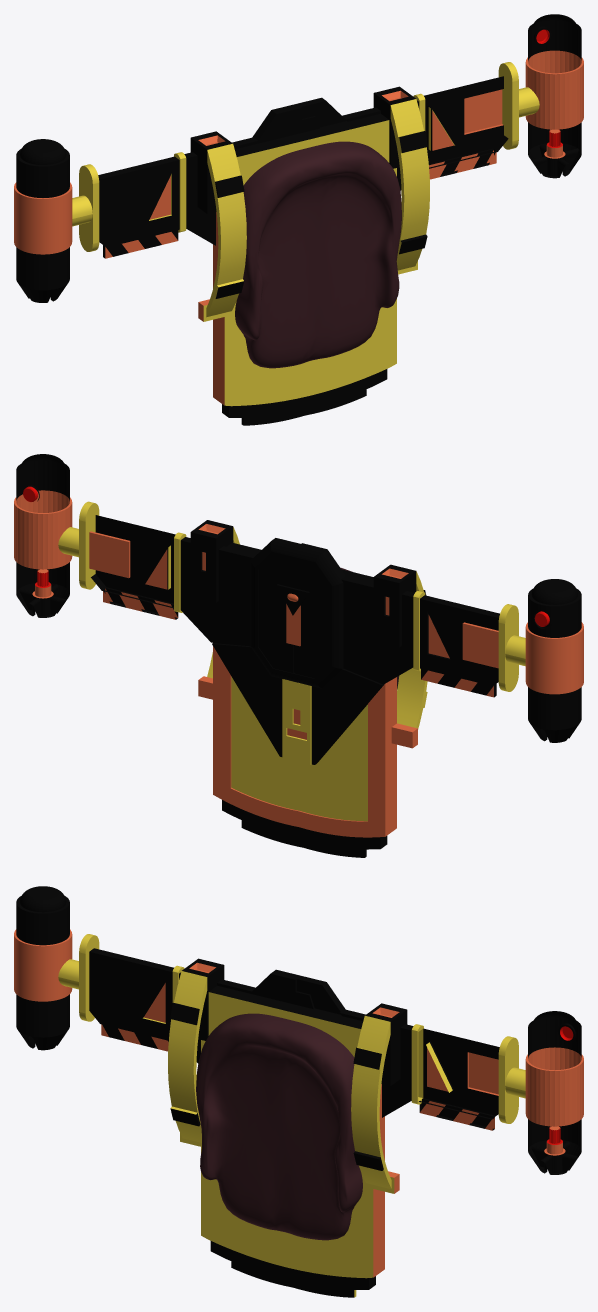
File: jet 4.fbx
3 views of the same model, one above another, from view 1: azimuth 30°, elevation 25°; view 2: azimuth 150°, elevation 25°; view 3: azimuth 330°, elevation 25° (orthographic).
Visible parts, largest first — view 1: Material2.049, Material2.002, Material2.001; view 2: Material2.049, Material2.002, Material2.001; view 3: Material2.049, Material2.001, Material2.002.
Part boxes in pixels (left/top/right/bottom): Material2.049: left=184, top=86, right=429, bottom=425; Material2.002: left=14, top=139, right=186, bottom=302; Material2.001: left=413, top=14, right=583, bottom=179; Material2.049: left=180, top=520, right=427, bottom=857; Material2.002: left=413, top=579, right=583, bottom=742; Material2.001: left=14, top=454, right=186, bottom=619; Material2.049: left=168, top=958, right=413, bottom=1297; Material2.001: left=411, top=1011, right=583, bottom=1174; Material2.002: left=14, top=886, right=184, bottom=1051.
Size of the model in its own units: 148 by 82.49 by 18.9.
